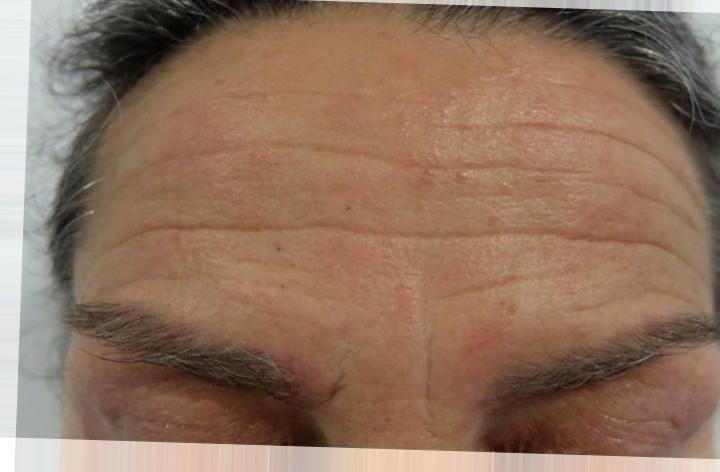Contact Dermatitis: (144, 76, 664, 325)
